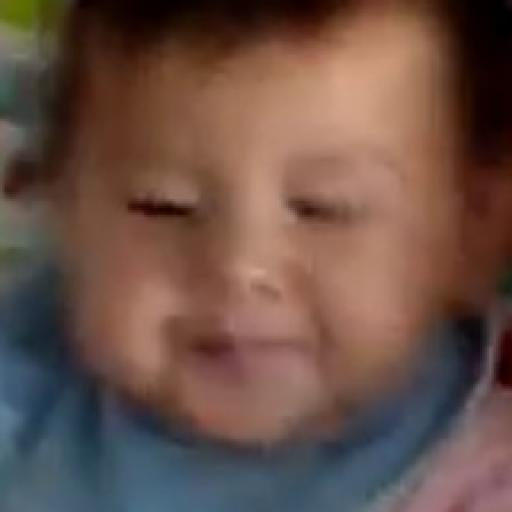Autism: (52, 2, 512, 511)
